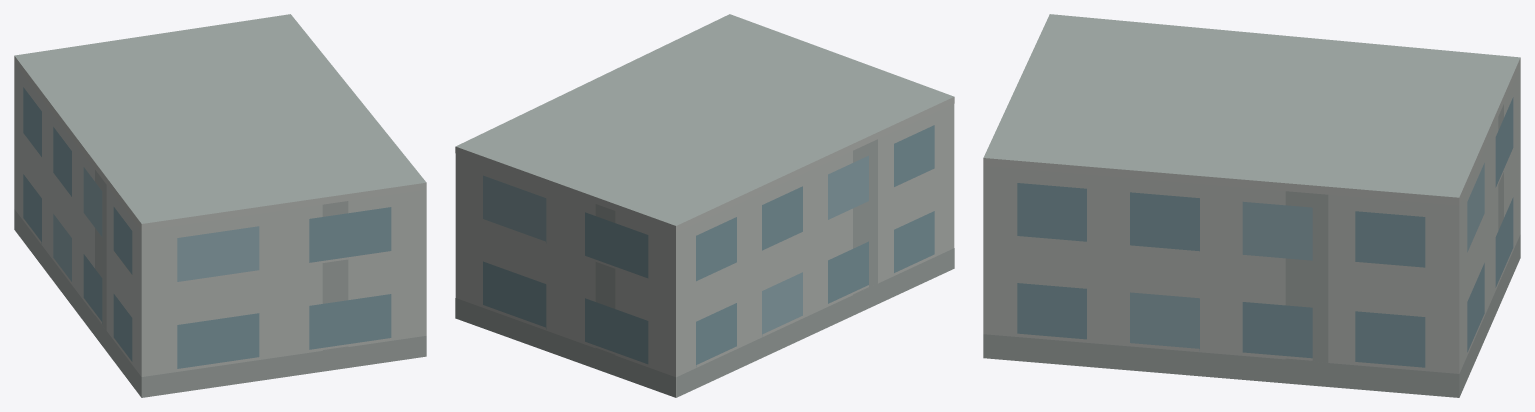
File: survey-upis-32771407.glb
3 renders of one model, left to right at view 1: azimuth 30°, elevation 25°; view 2: azimuth 150°, elevation 25°; view 3: azimuth 270°, elevation 25°, orthographic. The views are drawn at different scales.
Visible parts, largest first — view 1: survey-upis-32771407.tmp; view 2: survey-upis-32771407.tmp; view 3: survey-upis-32771407.tmp.
Part boxes in pixels (<box>): survey-upis-32771407.tmp: <box>14,14,426,397</box>; survey-upis-32771407.tmp: <box>455,14,954,397</box>; survey-upis-32771407.tmp: <box>983,14,1520,397</box>.
Size of the model in its own units: 12.01 by 6.1 by 14.85.
